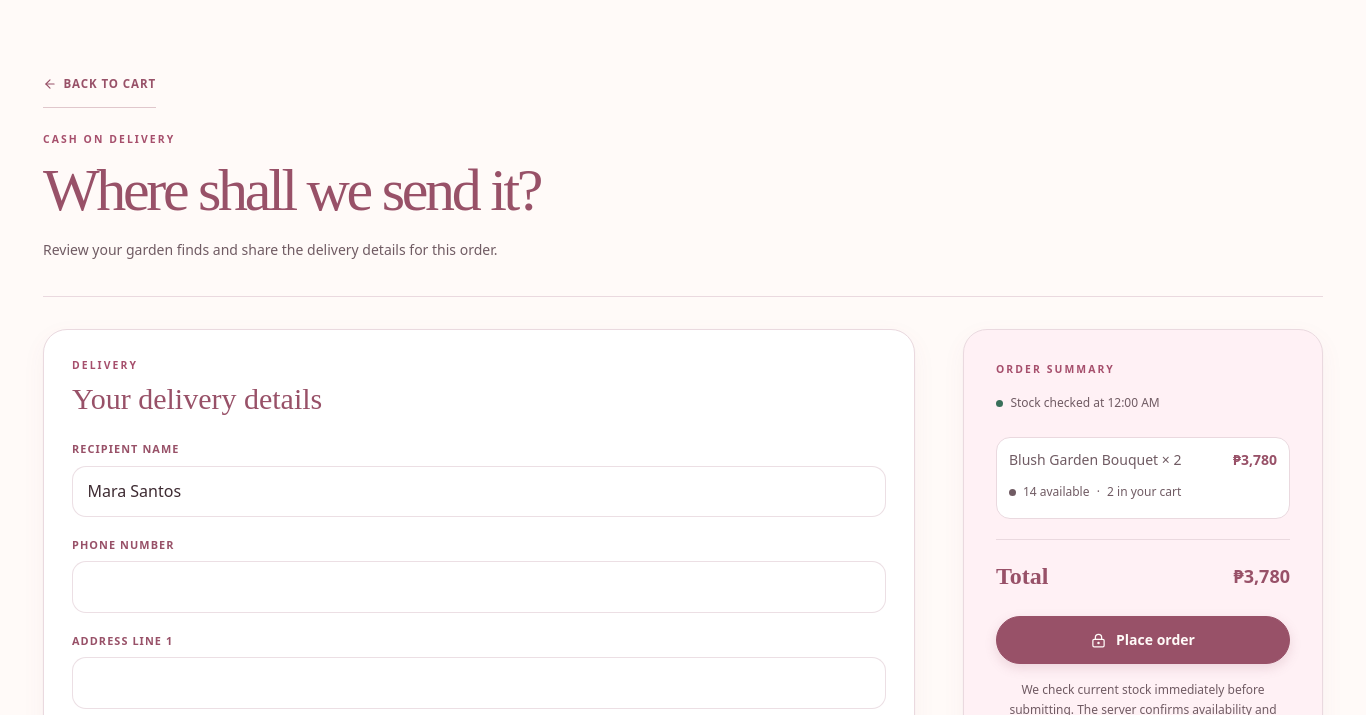
Test: checkout and customer order flows › blocks submission when the preflight check finds less stock and focuses recovery
Type "+63 917 123 4567" into the field labelled "Phone number".
click(479, 587); type("+63 917 123 4567")  # box [72,561,886,613]
Type "12 Sampaguita Street" into the field labelled "Address line 1".
click(479, 683); type("12 Sampaguita Street")  # box [72,657,886,709]
(page scrolled)
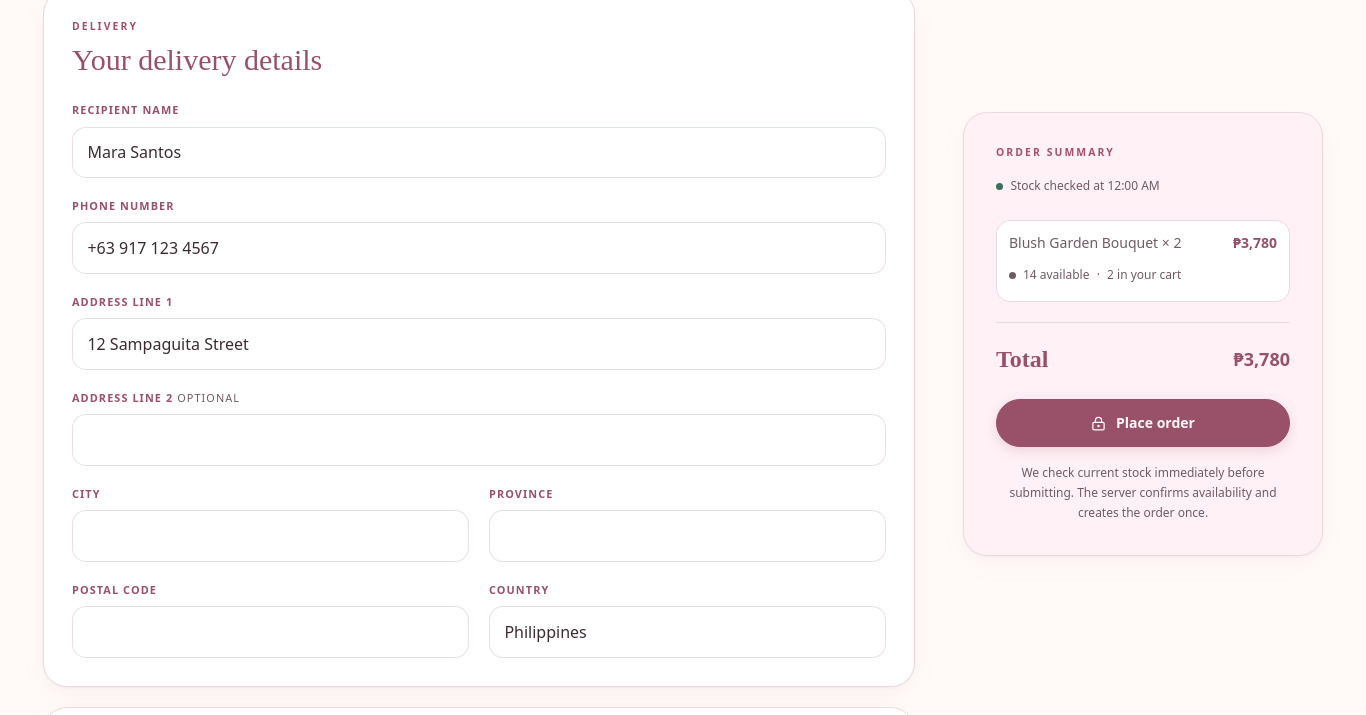
Type "Barangay Maligaya" into the field labelled "Address line 2 Optional".
click(479, 440); type("Barangay Maligaya")  # box [72,414,886,466]
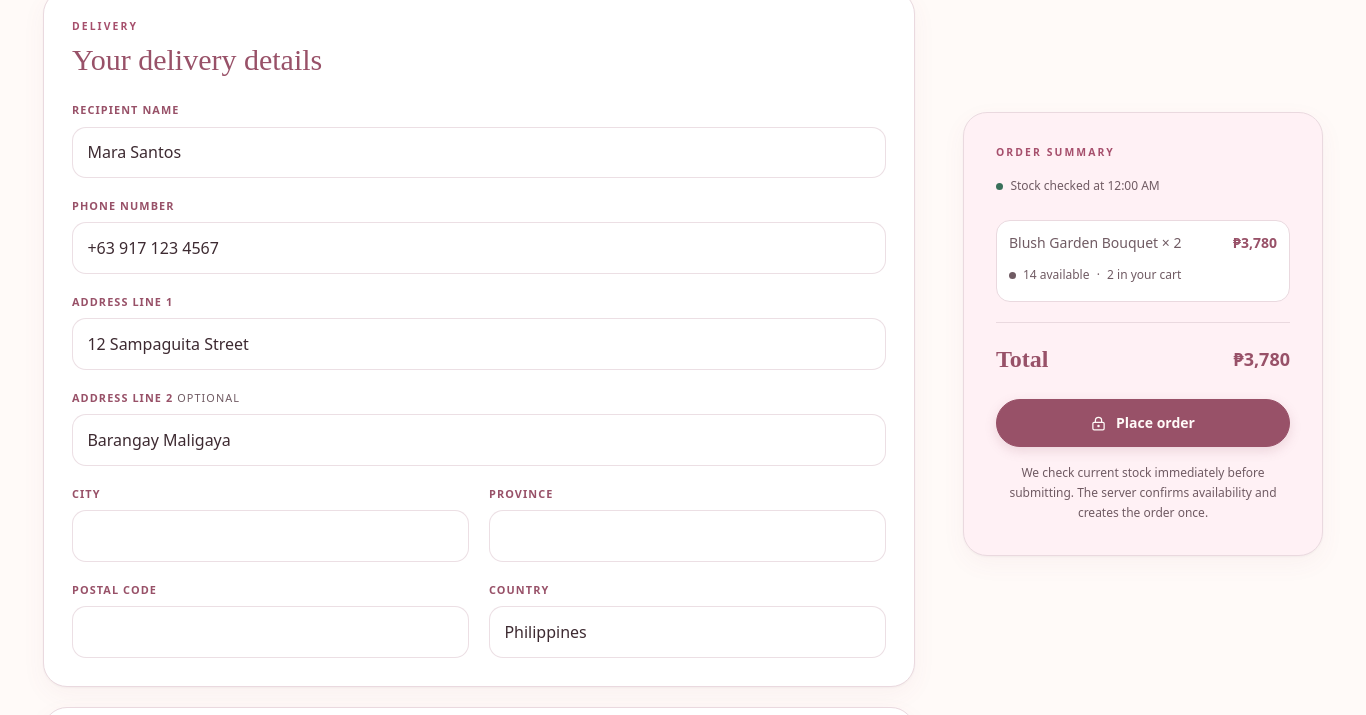
Type "Quezon City" into the field labelled "City".
click(270, 536); type("Quezon City")  # box [72,510,469,562]
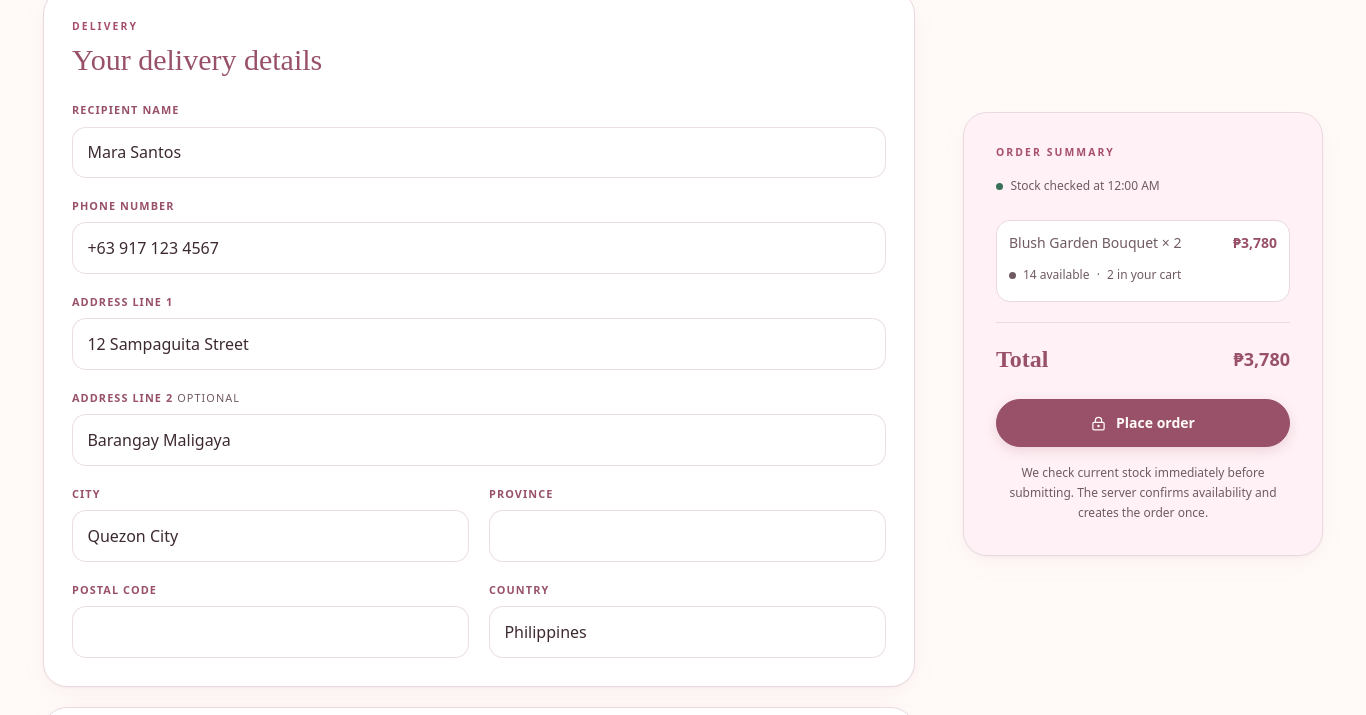
Type "Metro Manila" into the field labelled "Province".
click(688, 536); type("Metro Manila")  # box [489,510,886,562]
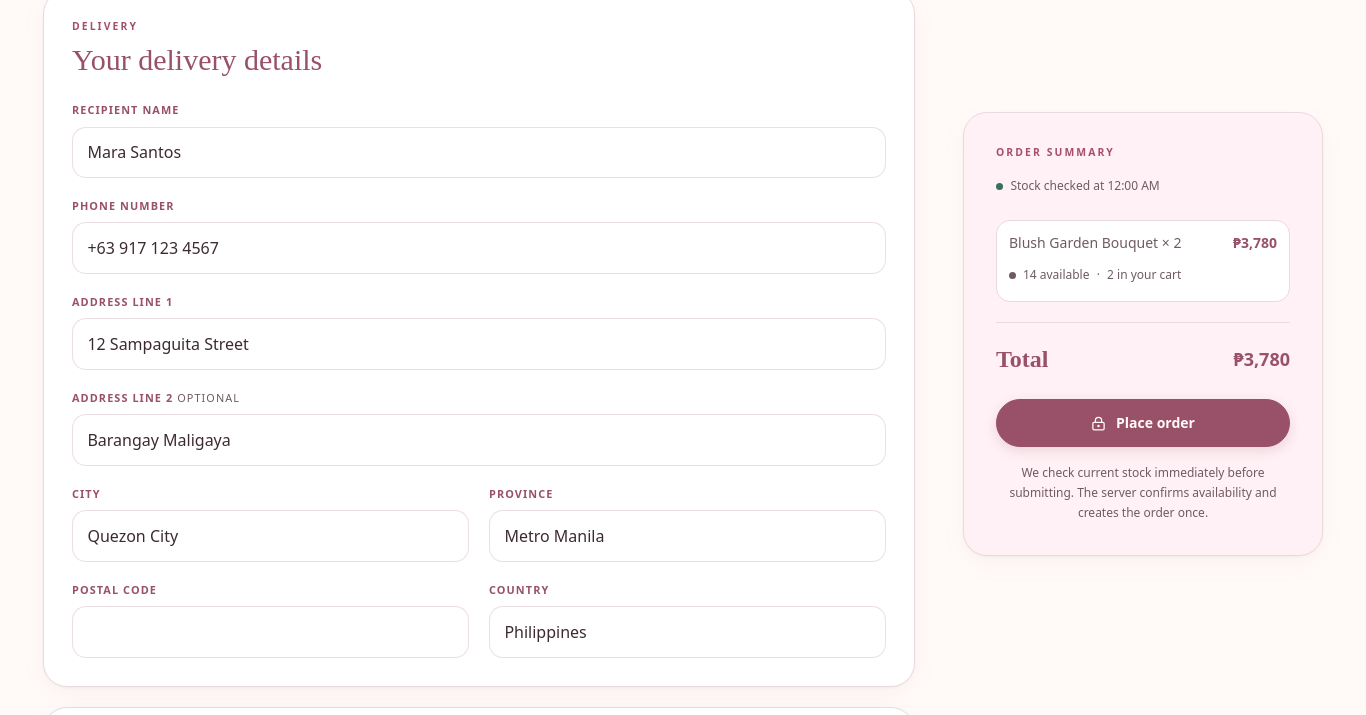
Type "1100" into the field labelled "Postal code".
click(270, 632); type("1100")  # box [72,606,469,658]
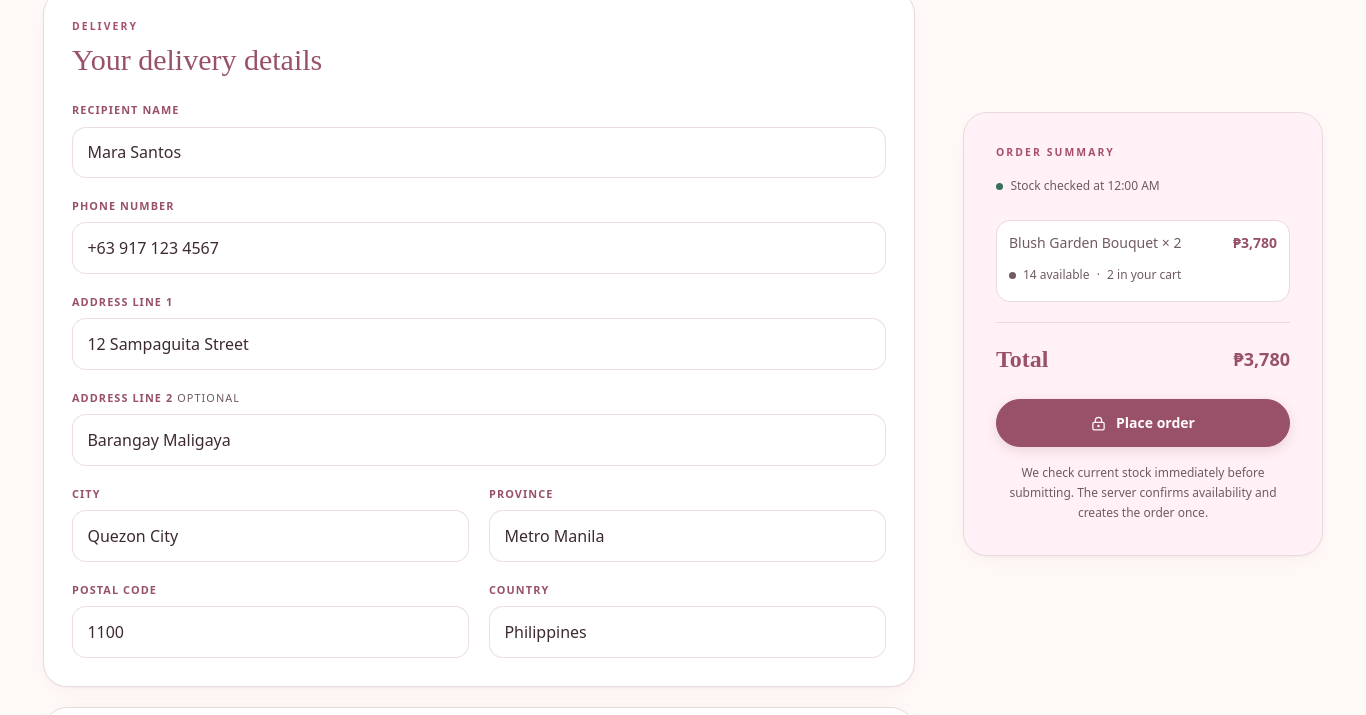
Click the button "Place order".
click(1143, 424)  # box [996,400,1290,448]
(page scrolled)
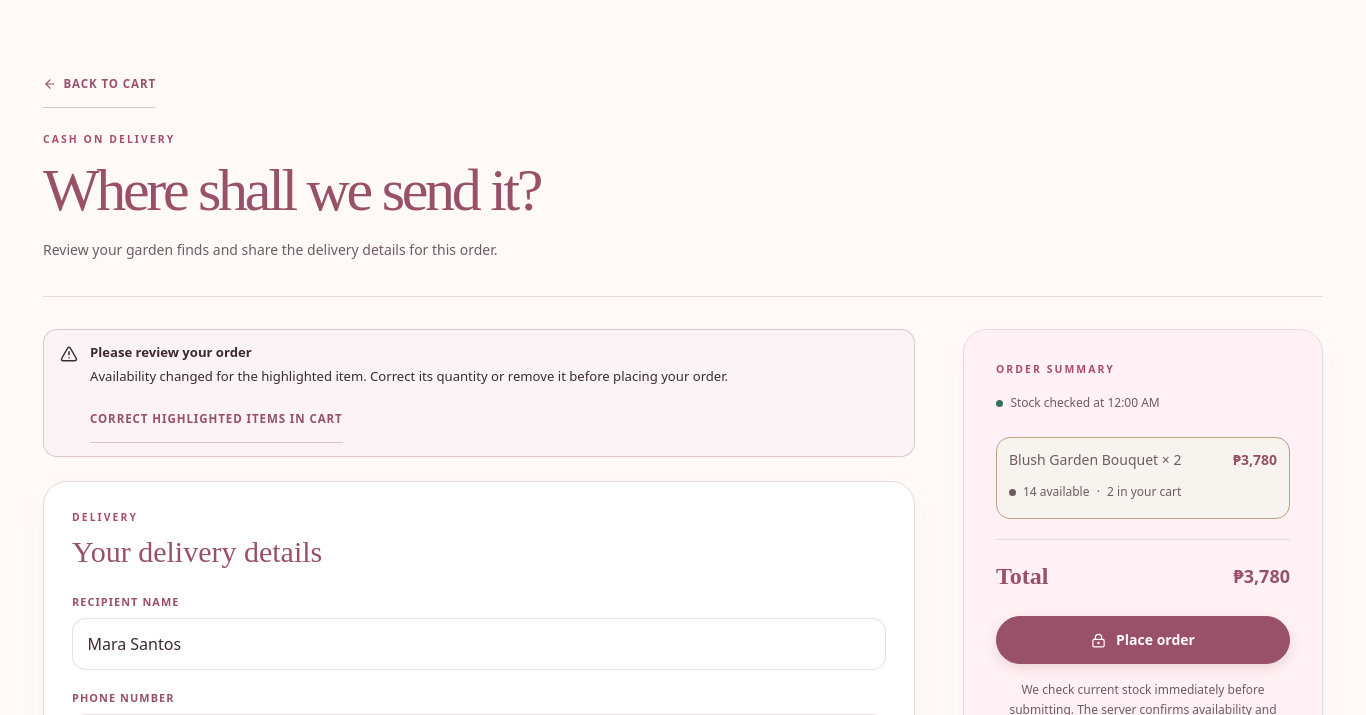
Now the message that starts with "Please review your order" shows "Availability changed for the highlighted item", box [90,367,728,385]
